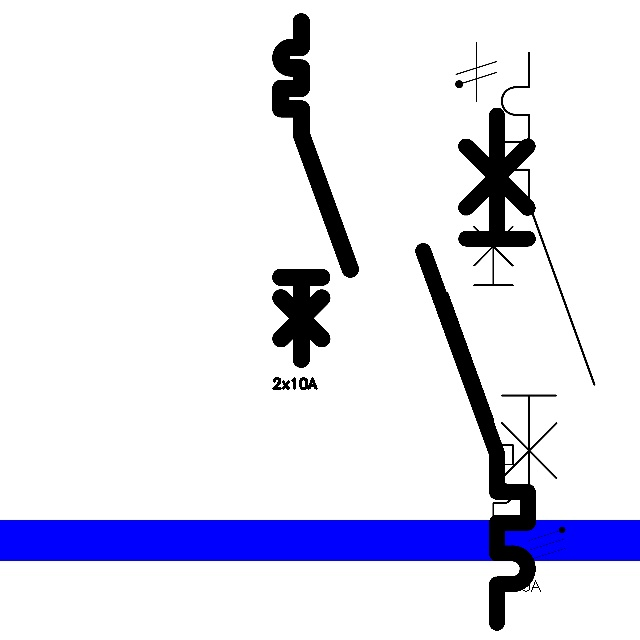interruptor_termomagnetico: (410, 102, 541, 636), (490, 41, 606, 517), (272, 13, 359, 368), (439, 199, 521, 536)
